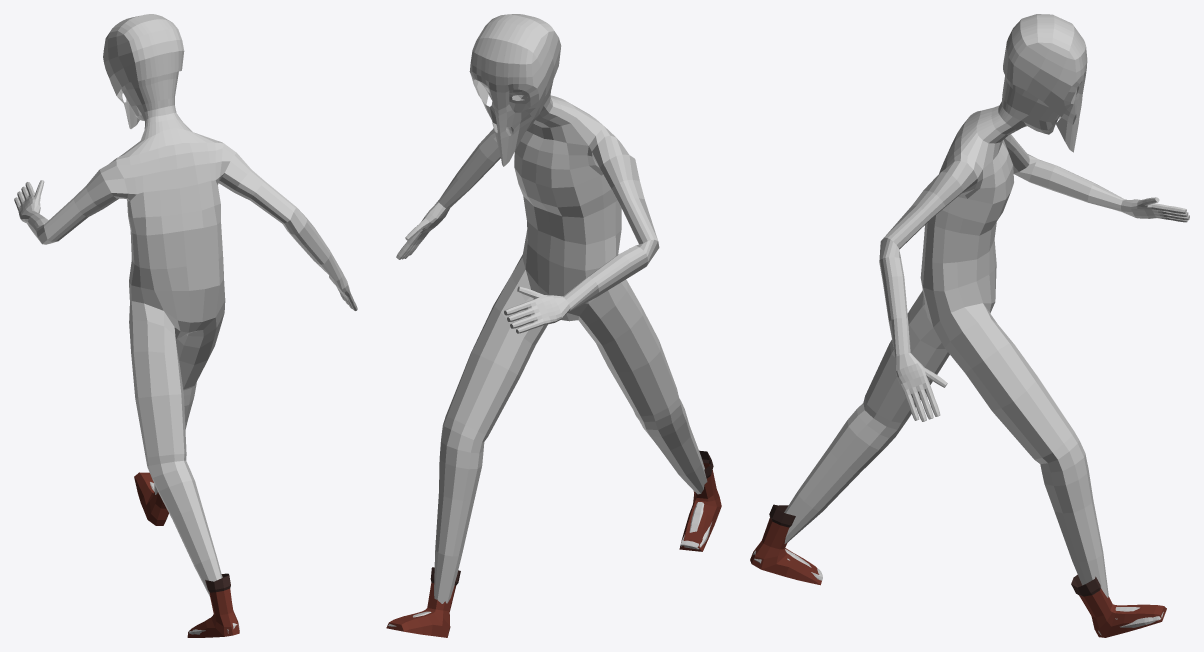
Rendered from marcha5_000053.obj.
The picture shows the model from 3 angles, left to right: view 1: azimuth 30°, elevation 25°; view 2: azimuth 150°, elevation 25°; view 3: azimuth 270°, elevation 25°; orthographic projection. The views are drawn at different scales.
Parts seen in each view (by area): view 1: Plane.002_Plane.001, Plane.004, Plane.003; view 2: Plane.002_Plane.001, Plane.003, Plane.004; view 3: Plane.002_Plane.001, Plane.004, Plane.003.
Boxes of the visible parts, bbox=[...] form: Plane.002_Plane.001: bbox=[14, 14, 357, 634]; Plane.004: bbox=[187, 573, 239, 637]; Plane.003: bbox=[134, 472, 168, 525]; Plane.002_Plane.001: bbox=[388, 14, 711, 626]; Plane.003: bbox=[386, 567, 460, 637]; Plane.004: bbox=[679, 450, 721, 551]; Plane.002_Plane.001: bbox=[753, 14, 1189, 635]; Plane.004: bbox=[750, 504, 821, 585]; Plane.003: bbox=[1071, 574, 1166, 637].
Size of the model in its own units: 3.42 by 6.54 by 4.39.
